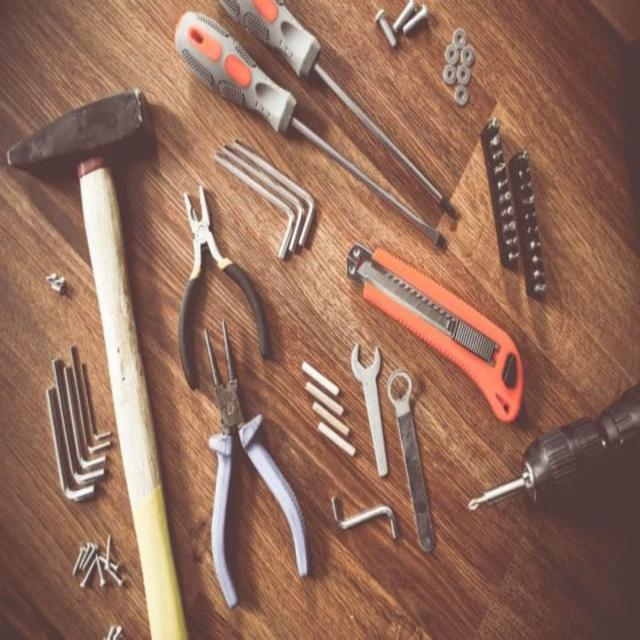Screwdriver: (175, 11, 442, 243), (220, 0, 455, 216)
